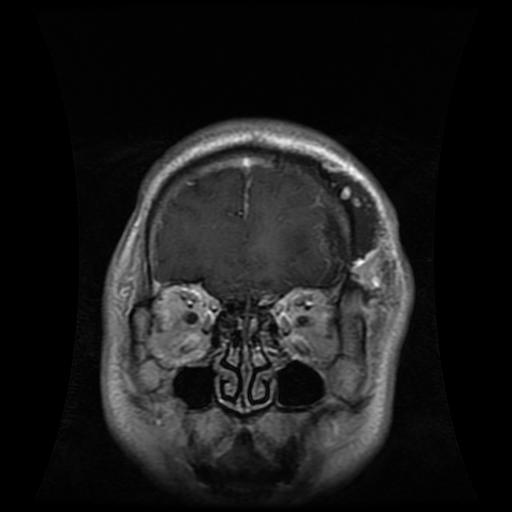Gliomia_tumour: (315, 193, 353, 283)
